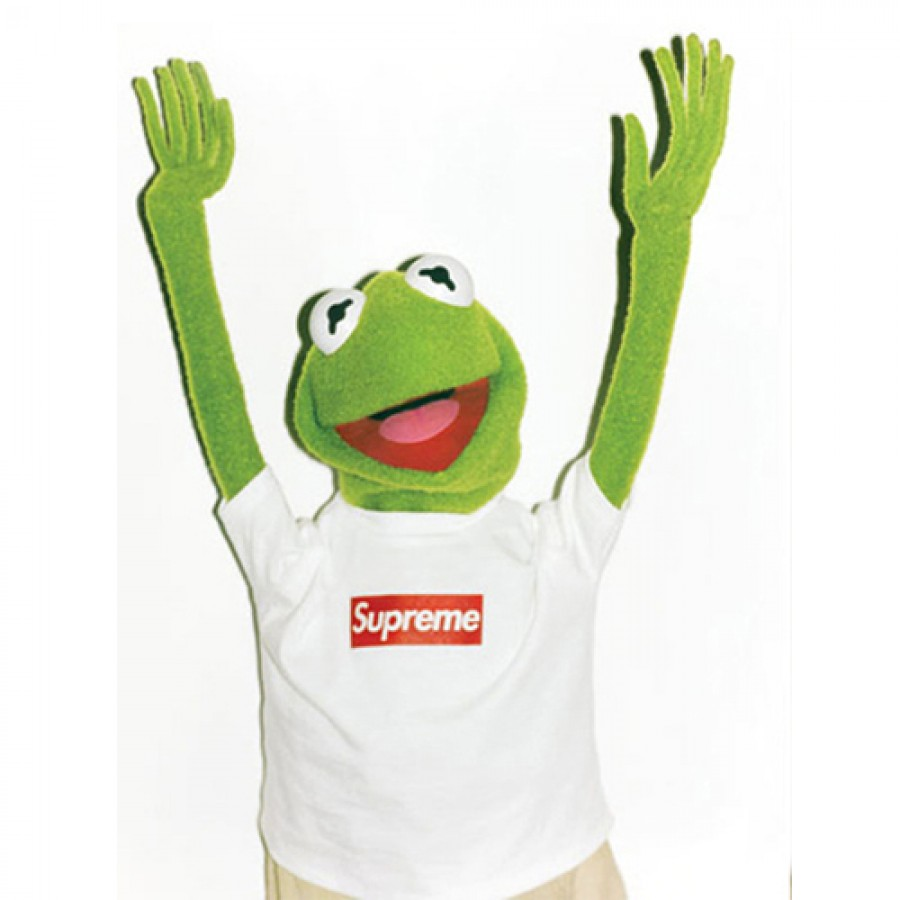kermit: (289, 249, 535, 502)
